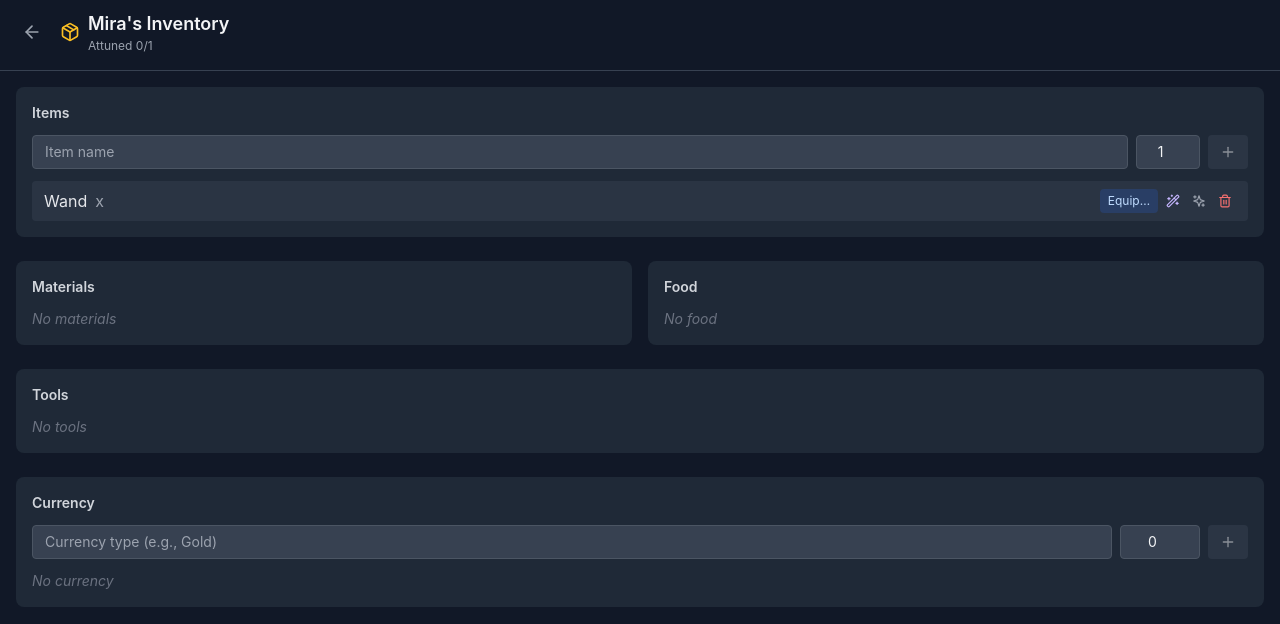
Scenario: CharacterInventoryPanel attunement › attunes an item with the explicit true payload through the real store
Click the button named "Attune: Wand" at (1199, 201), box [1188,190,1210,212]
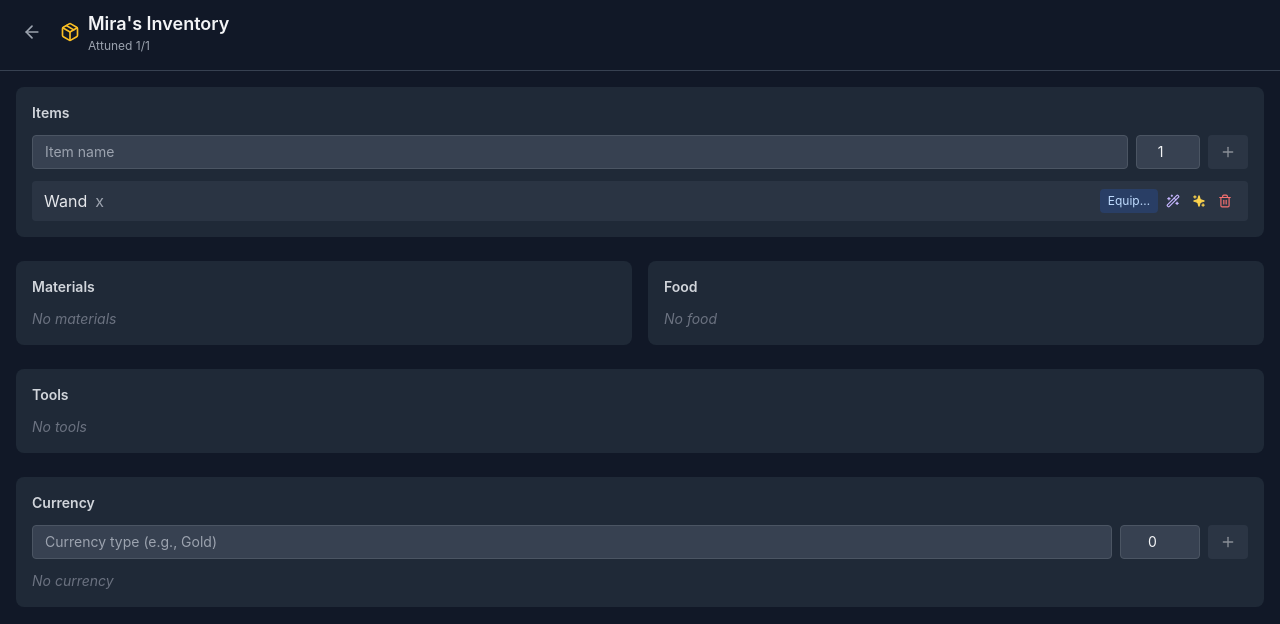
Check: the text "Attuned 1/1" is shown, box [88,38,150,53]
